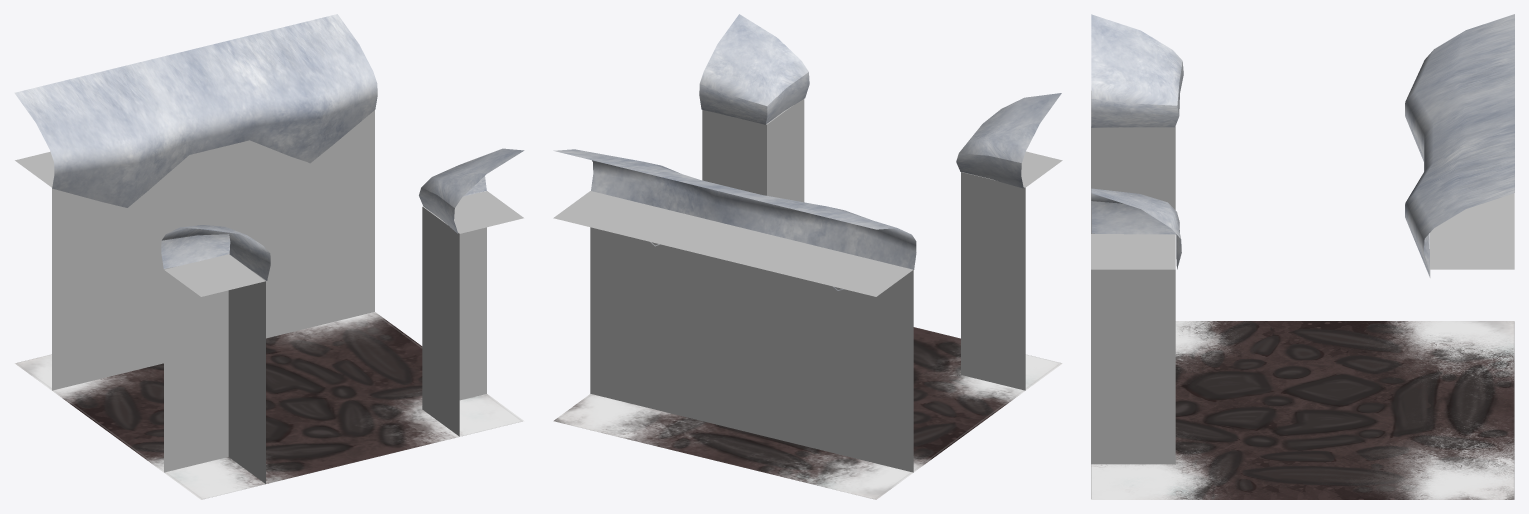
The model's file is Mod_T_Edge_2-5.fbx.
3 views of the same model, side by side, from view 1: azimuth 30°, elevation 25°; view 2: azimuth 150°, elevation 25°; view 3: azimuth 270°, elevation 25° (orthographic). The views are drawn at different scales.
Visible parts, largest first — view 1: polySurface19; view 2: polySurface19; view 3: polySurface19.
Boxes of the visible parts, x1,y1,x2,y2 form: polySurface19: (14,14,524,499); polySurface19: (553,14,1062,499); polySurface19: (1091,14,1514,499).
Bounding box in the file's own units: 100 × 79.98 × 100.
